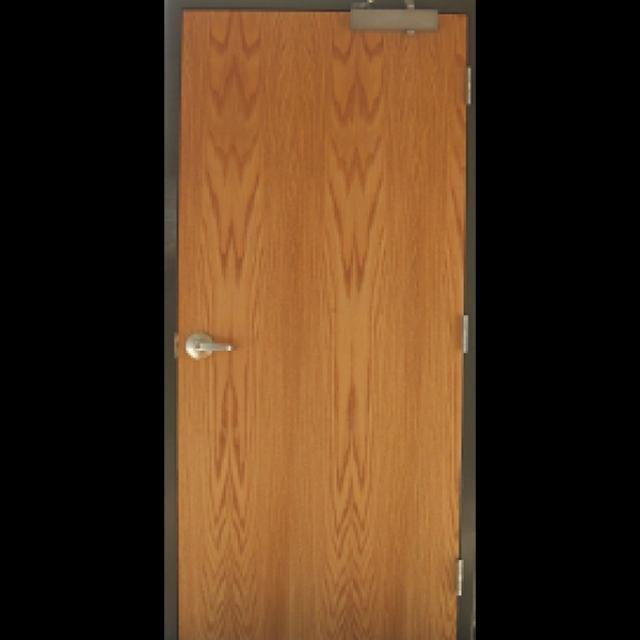door: (167, 1, 473, 640)
